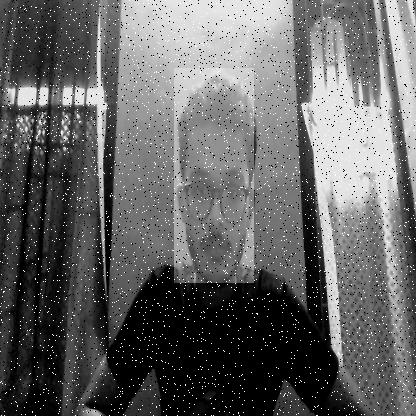Normal: (174, 68, 254, 283)
